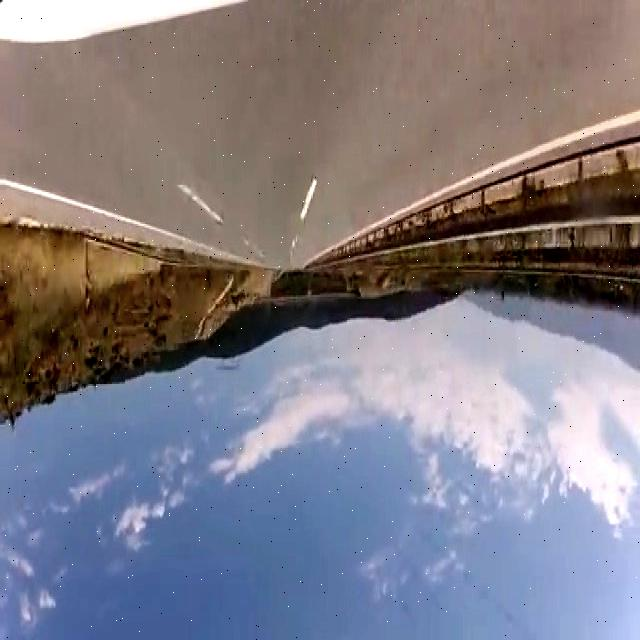lane: (356, 110, 640, 234), (300, 179, 318, 220)
road: (1, 4, 640, 268)
